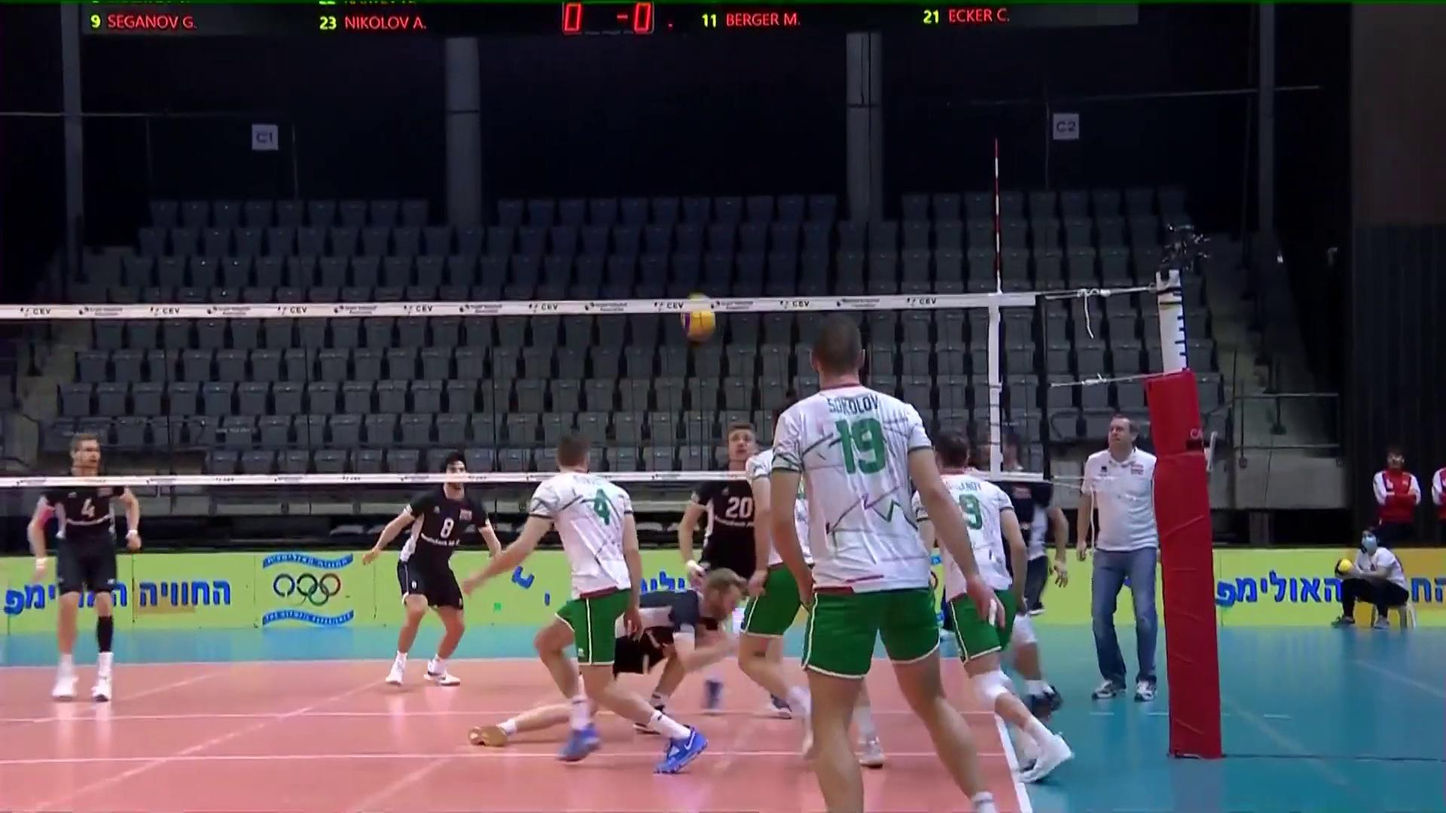ball: (679, 296, 718, 342)
